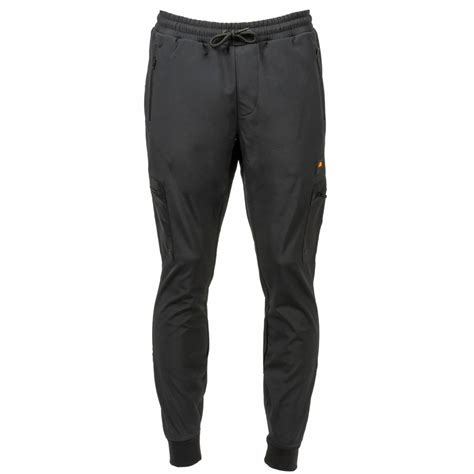nylon: (144, 9, 328, 446)
